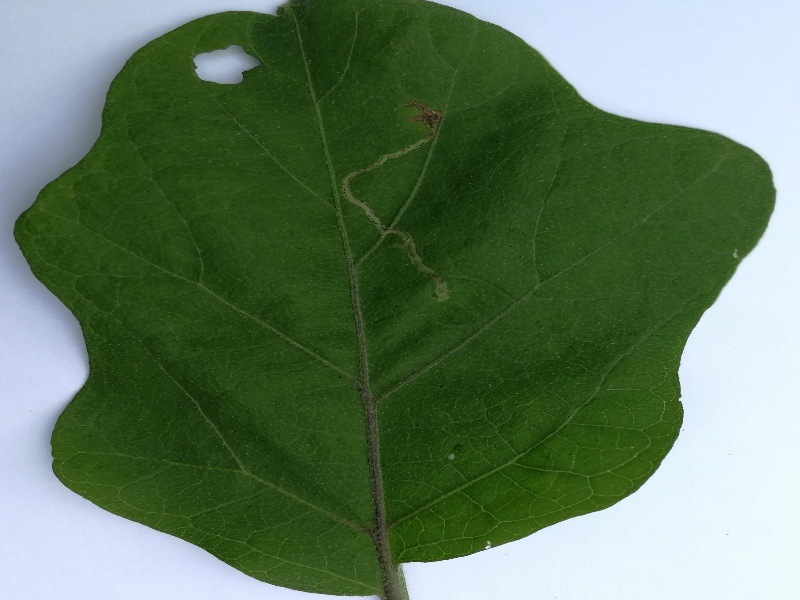leafminer: (336, 92, 462, 315)
